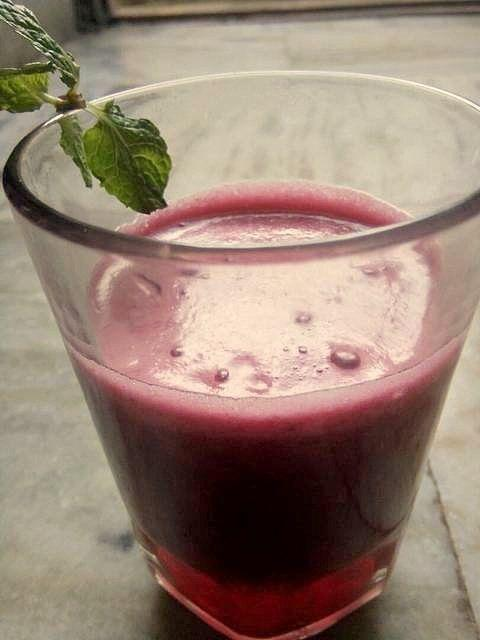glass-normal: (1, 69, 479, 640)
